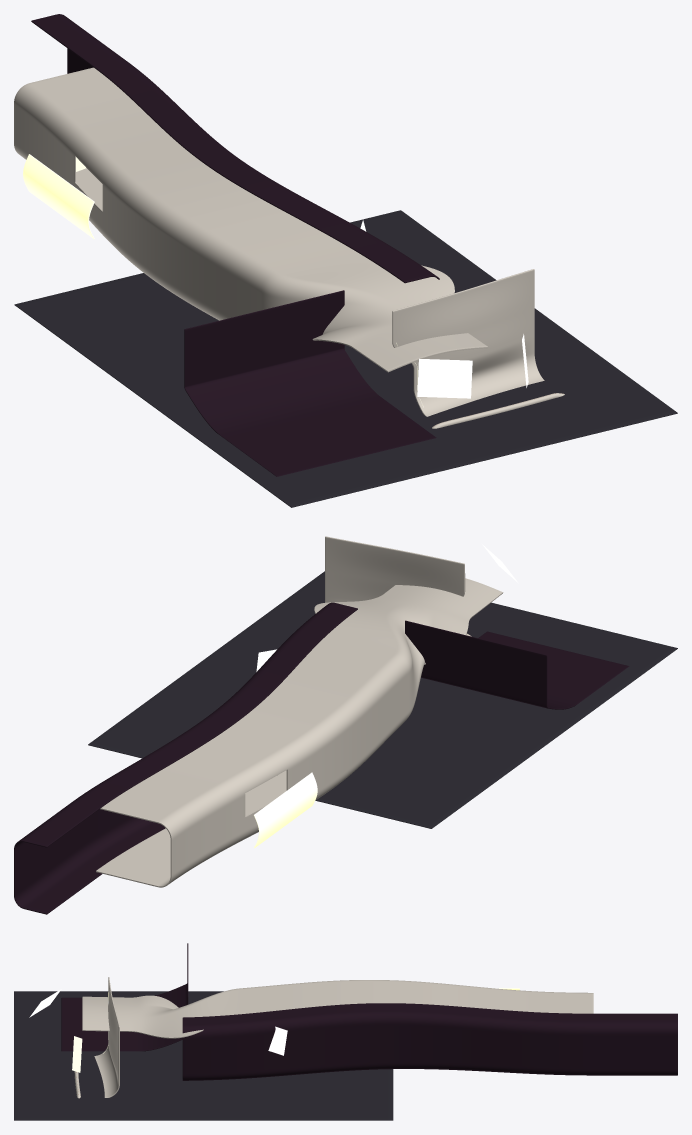
The model's file is chamber.glb.
3 renders of one model, top to bottom at view 1: azimuth 30°, elevation 25°; view 2: azimuth 150°, elevation 25°; view 3: azimuth 270°, elevation 25°, orthographic. The views are drawn at different scales.
Visible parts, largest first — view 1: Retained_Hero_Wing_And_Floor, Shared_Unfolding_Canopy, Deep_Burgundy_Continuous_Return, Shared_Sculpted_Cove, Warm_Recessed_Lightwell, Warm portrait softbox, Shared_Sculpted_Foreground; view 2: Retained_Hero_Wing_And_Floor, Shared_Unfolding_Canopy, Deep_Burgundy_Continuous_Return, Shared_Sculpted_Cove, Warm_Recessed_Lightwell; view 3: Deep_Burgundy_Continuous_Return, Retained_Hero_Wing_And_Floor, Shared_Unfolding_Canopy, Shared_Sculpted_Cove, Cool quiet depth source, Warm portrait rim.
Boxes of the visible parts, x1,y1,x2,y2 form: Retained_Hero_Wing_And_Floor: (14,210,677,507); Shared_Unfolding_Canopy: (14,67,487,372); Deep_Burgundy_Continuous_Return: (31,14,439,283); Shared_Sculpted_Cove: (392,269,544,416); Warm_Recessed_Lightwell: (23,154,94,239); Warm portrait softbox: (417,358,472,398); Shared_Sculpted_Foreground: (432,393,564,428); Retained_Hero_Wing_And_Floor: (88,571,677,828); Shared_Unfolding_Canopy: (96,578,503,887); Deep_Burgundy_Continuous_Return: (14,602,357,914); Shared_Sculpted_Cove: (325,536,465,602); Warm_Recessed_Lightwell: (254,772,317,848); Deep_Burgundy_Continuous_Return: (182,1003,677,1080); Retained_Hero_Wing_And_Floor: (14,943,393,1120); Shared_Unfolding_Canopy: (82,980,593,1038); Shared_Sculpted_Cove: (94,977,119,1097); Cool quiet depth source: (268,1026,287,1055); Warm portrait rim: (72,1036,82,1072).
Bounding box in the file's own units: 58 × 17.1 × 126.
